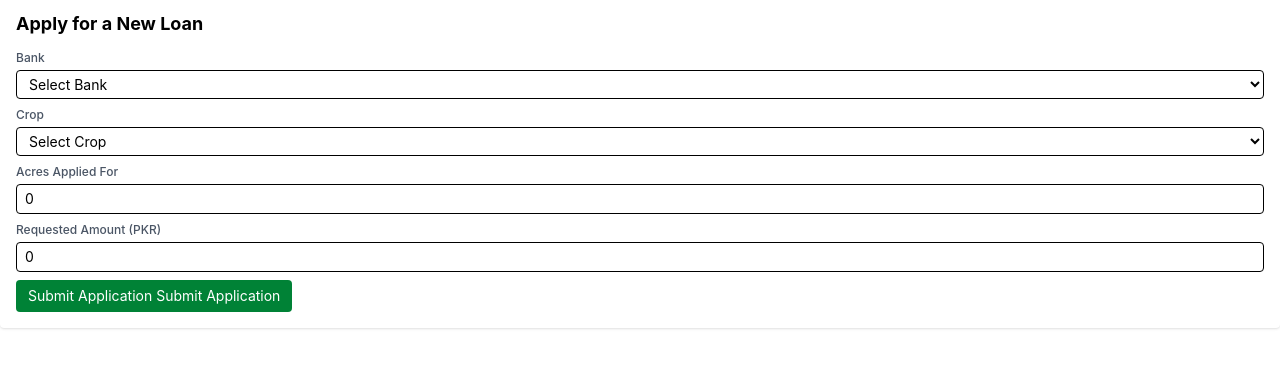
ApplyLoanForm.vue › surfaces a custom_exception_handler-style message on failure
The image size is (1280, 374).
Select "NRSP Bank" in the 1st dropdown: (640, 84) 16,70 -> 1264,99
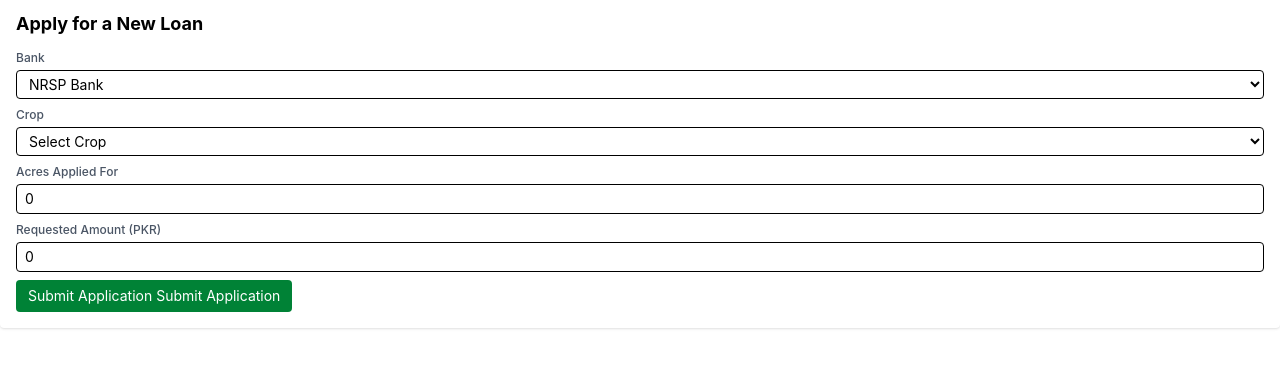
Select "Wheat (WHEAT)" in the 2nd dropdown: (640, 142) 16,127 -> 1264,156
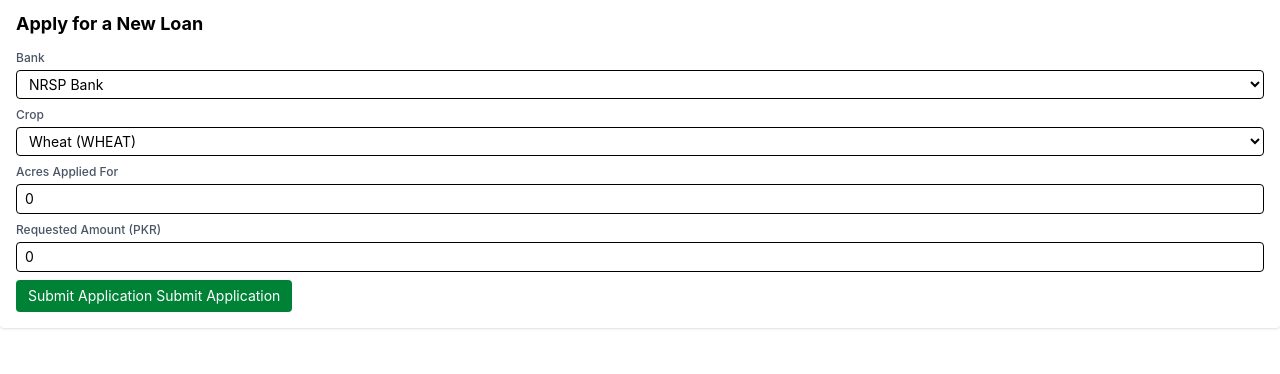
Replace the text in the 1st number field with "5": (640, 199) 16,184 -> 1264,214
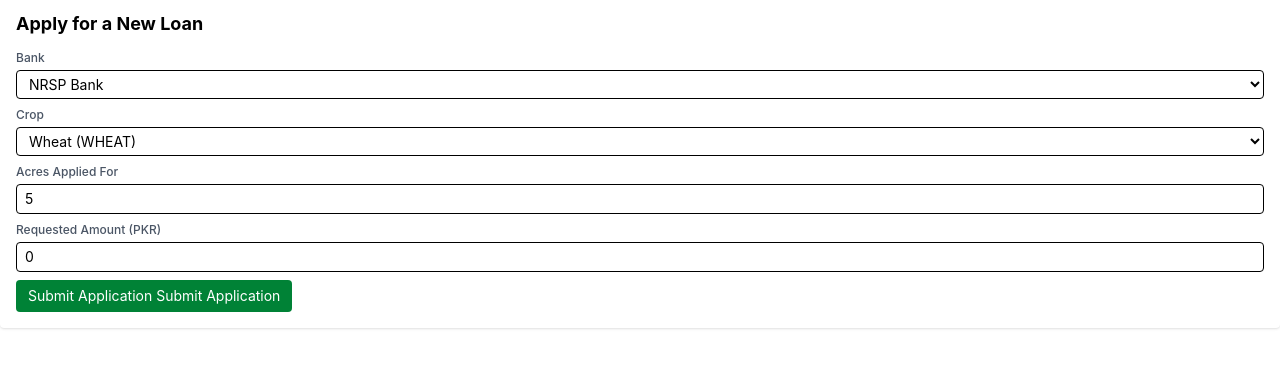
Replace the text in the 2nd number field with "50000": (640, 257) 16,242 -> 1264,272
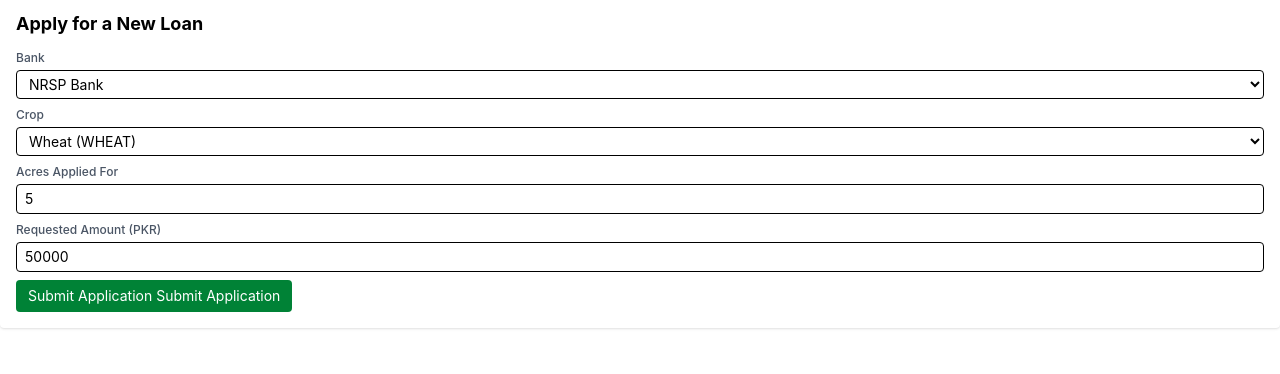
Click the button "Submit Application Submit Application": click(154, 296) 16,280 -> 292,312
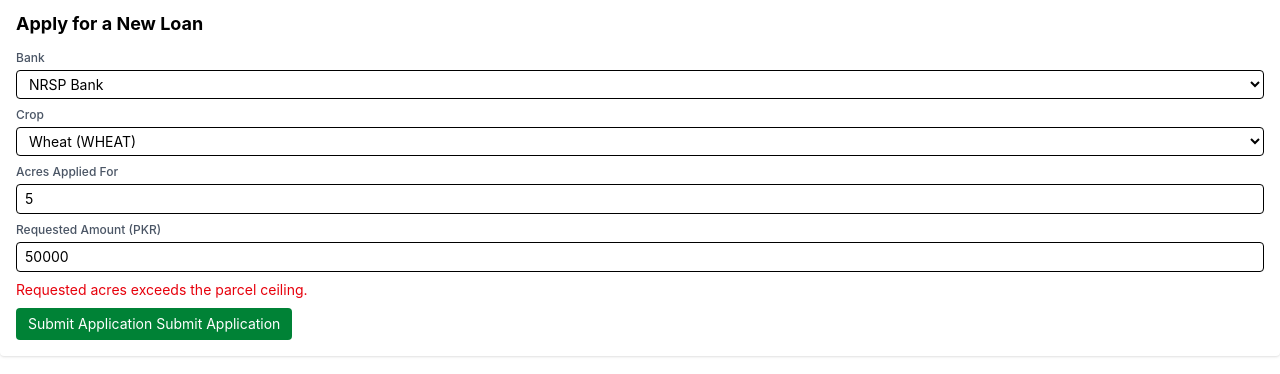
Expected: the text "Requested acres exceeds the parcel ceiling." is shown, 16,281 -> 308,298
